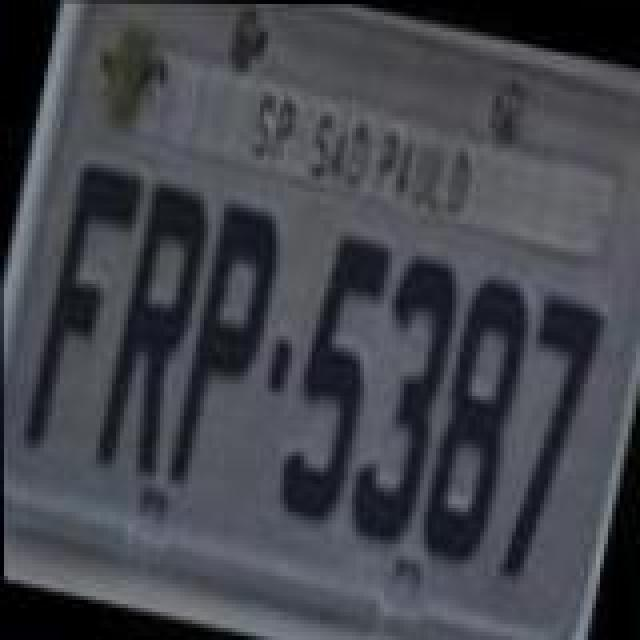3: (340, 240, 468, 556)
5: (268, 218, 400, 534)
7: (480, 282, 608, 594)
8: (408, 264, 536, 576)
F: (16, 148, 148, 468)
P: (162, 186, 290, 502)
R: (88, 170, 220, 486)
